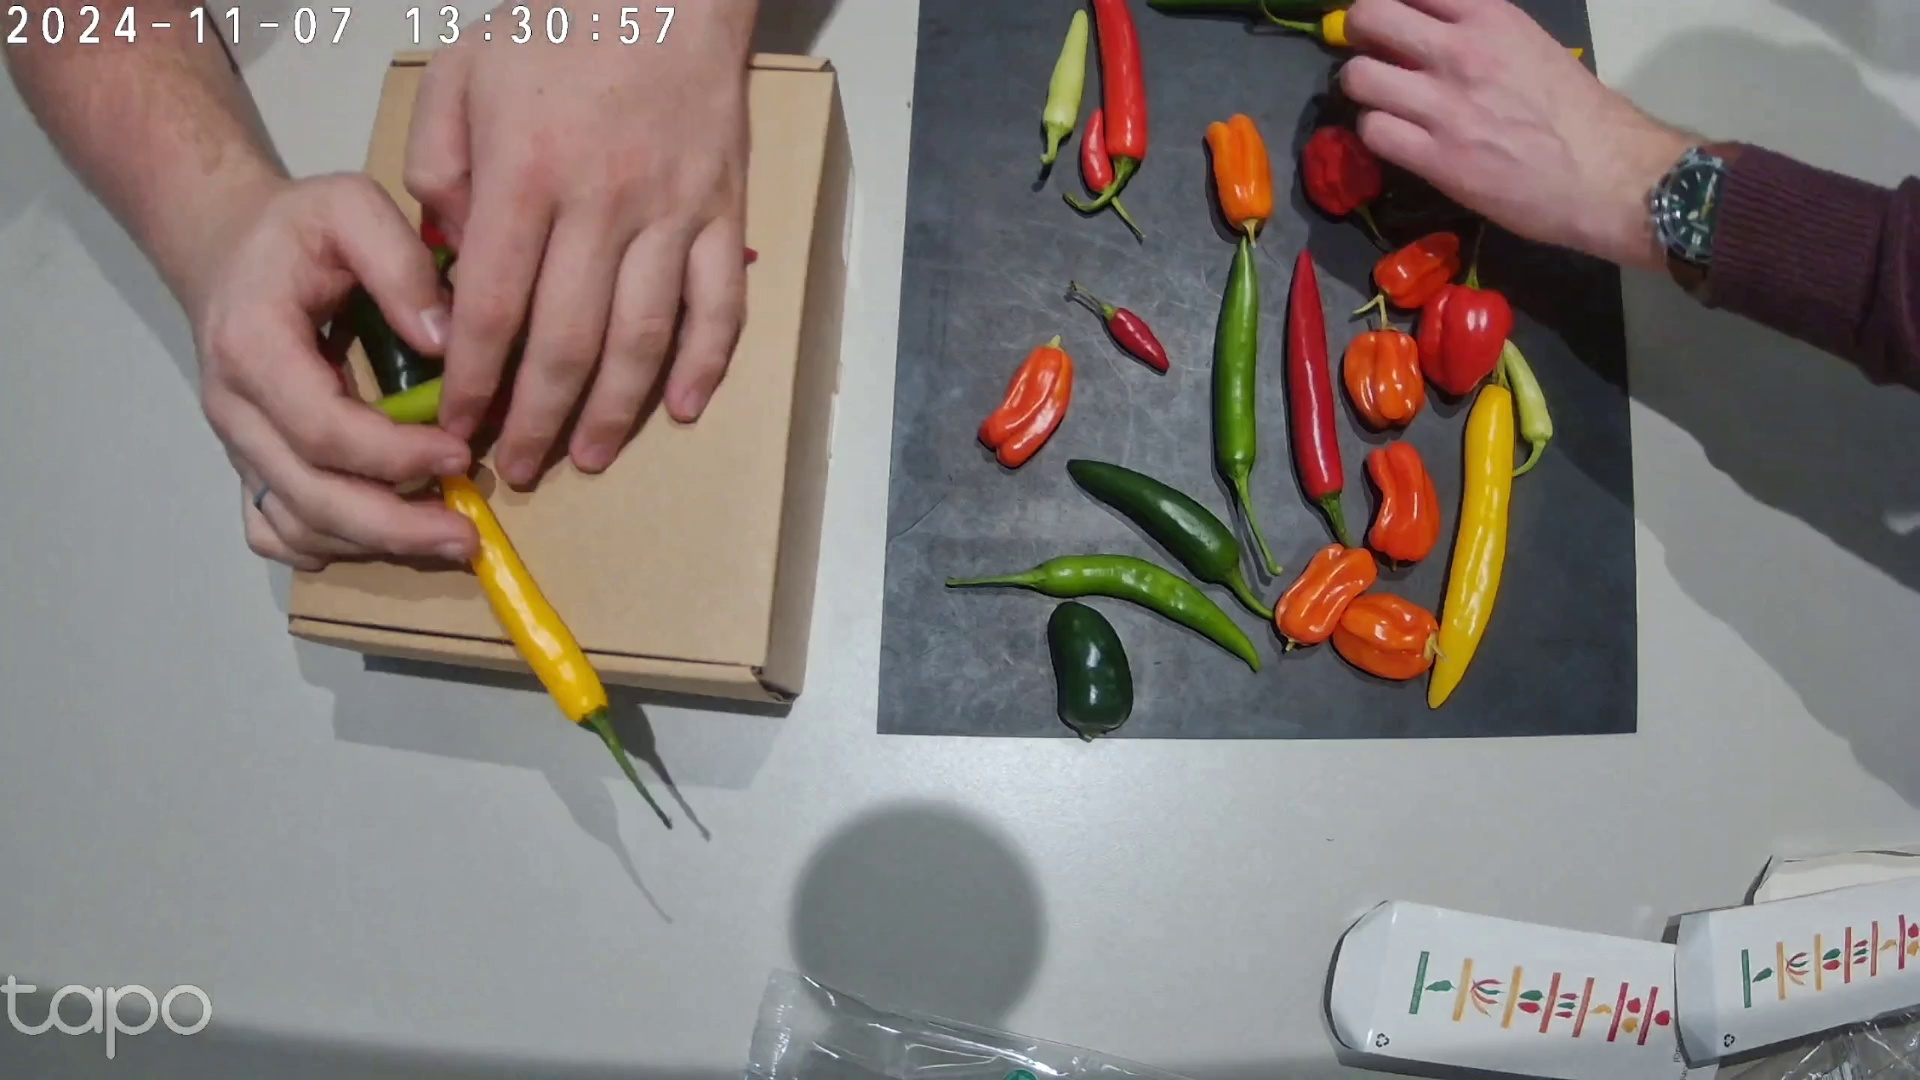Habanero_Pepper_Red: (1420, 222, 1514, 396), (1302, 125, 1383, 241)
Jalapeno_Green: (1067, 458, 1274, 621), (1047, 603, 1134, 740)
Leon_Orange: (977, 335, 1073, 468), (1275, 545, 1378, 653), (1345, 294, 1424, 429), (1331, 593, 1445, 679), (1367, 442, 1443, 571), (1205, 113, 1273, 248), (1354, 232, 1461, 314)
Rawit_Green: (1040, 9, 1089, 164), (1503, 339, 1555, 477)
Rawit_Red: (1069, 278, 1170, 372), (1080, 108, 1147, 239)
Spanish_Pepper_Green: (944, 554, 1261, 673), (1212, 236, 1283, 576)
Spanish_Pepper_Red: (1283, 247, 1349, 545)
Spanish_Pepper_Yellow: (1428, 357, 1515, 709)
